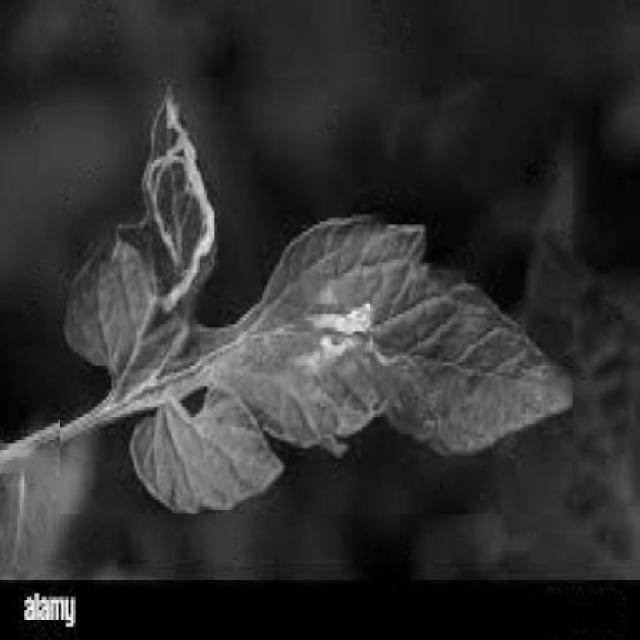Leaf Miner: (60, 77, 573, 514)
